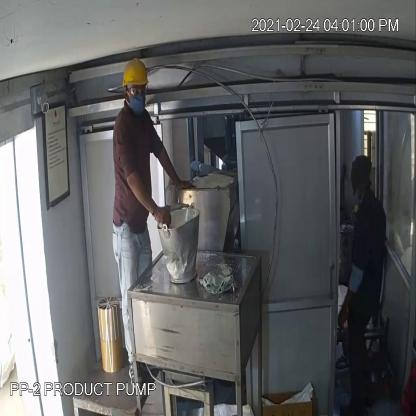helmet: (120, 56, 152, 94)
